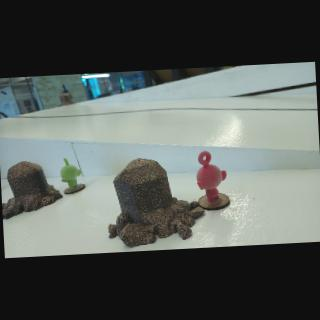teletubby: (196, 151, 227, 202), (61, 158, 81, 190)
